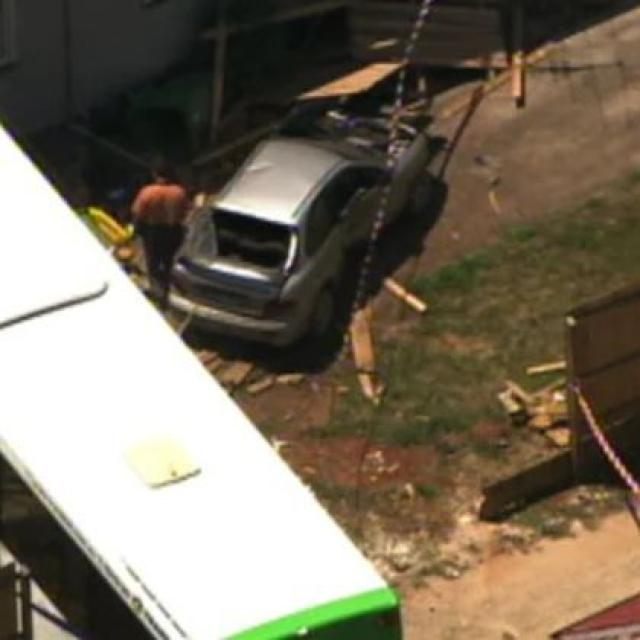traffic_incident: (180, 73, 439, 358)
